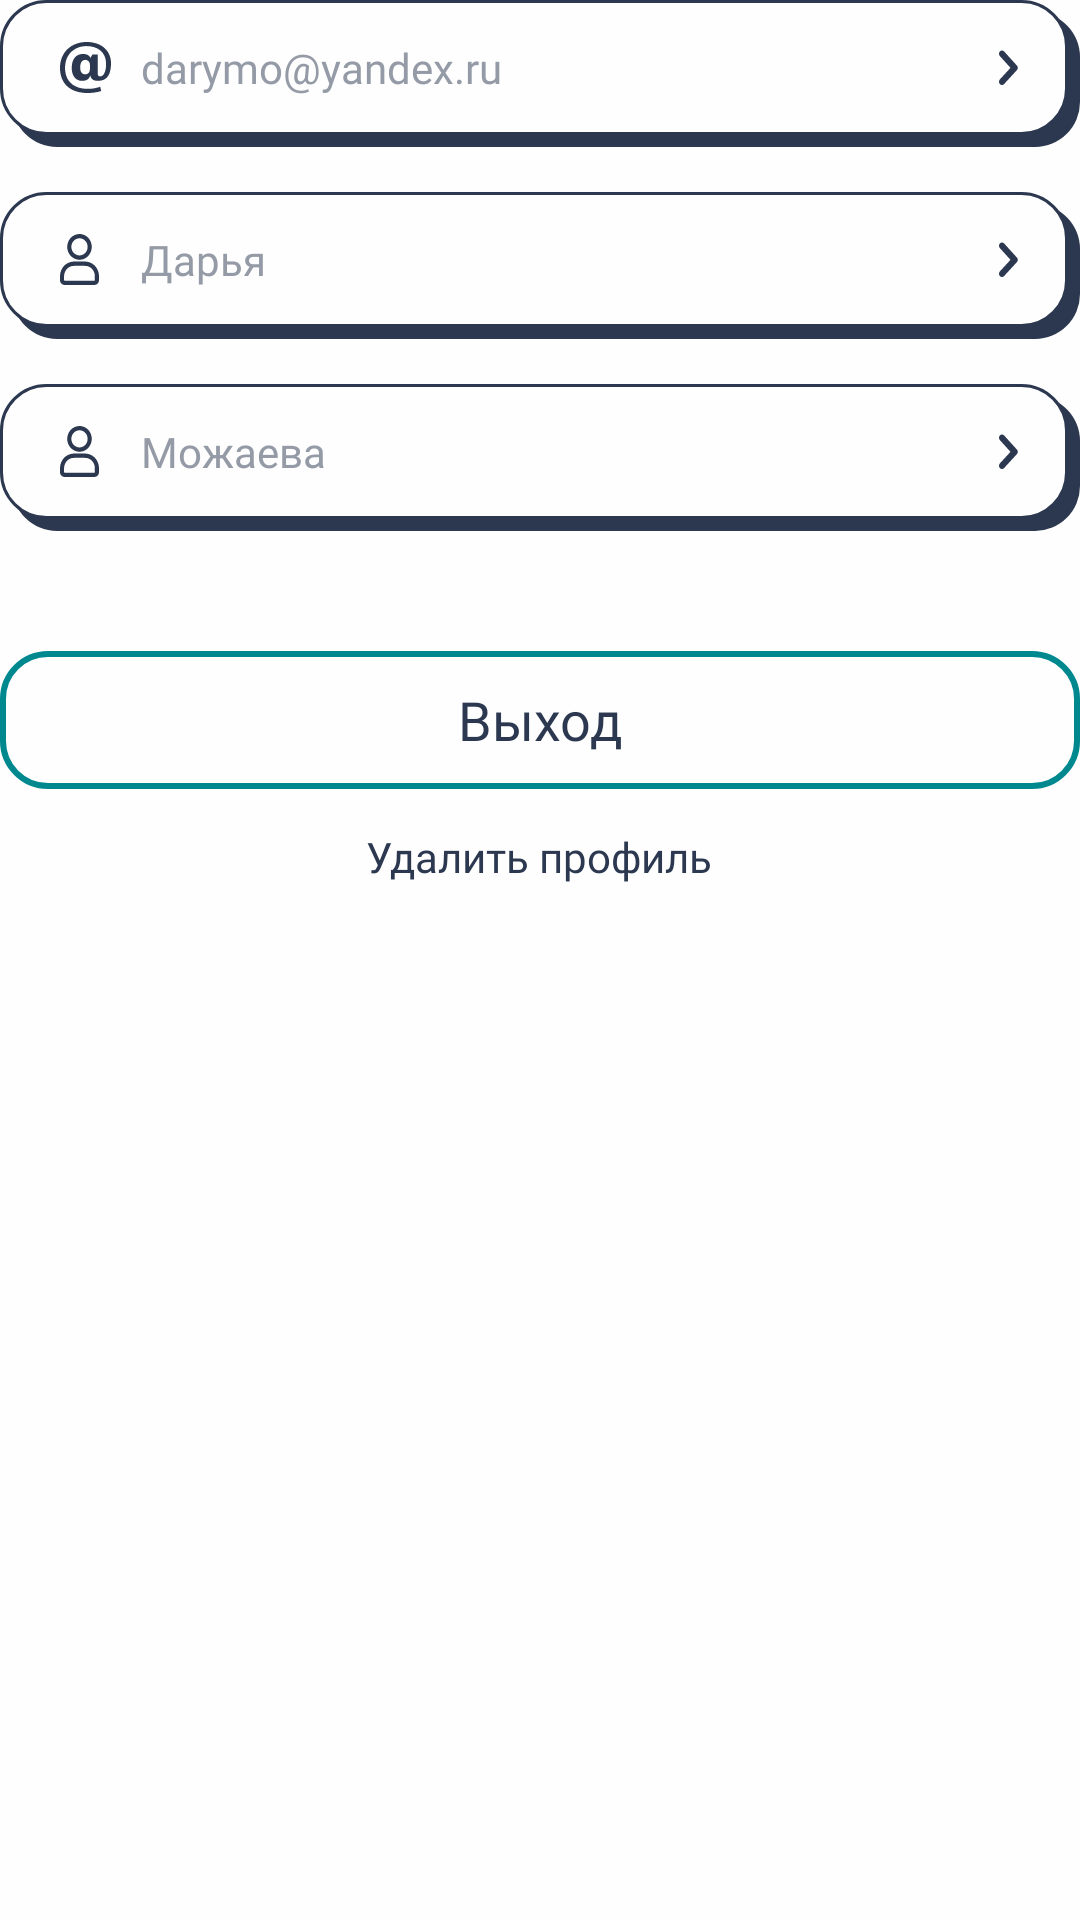

Icons on this 1080*1920 Android screen, each with its box as [x1,y1,x2,y2]:
email: [60,42,111,93]
user: [60,234,99,285], [60,426,99,477]
